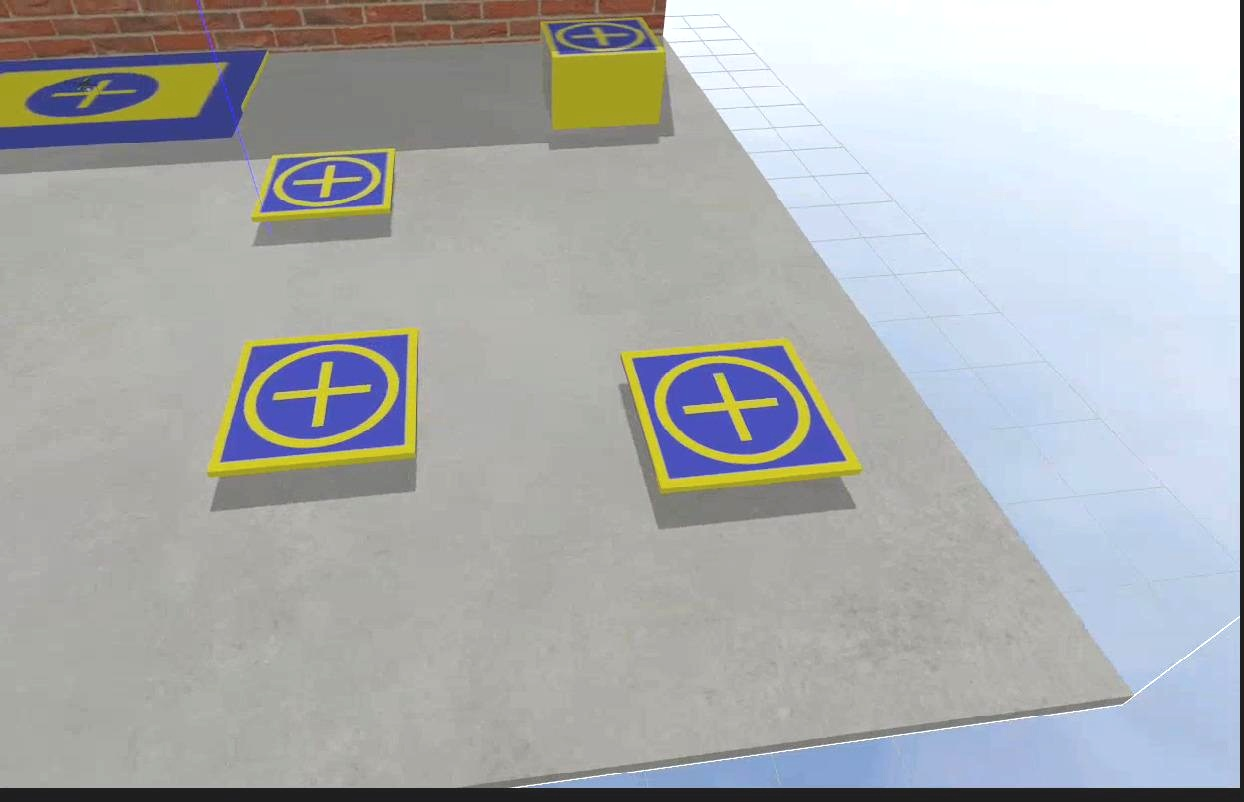large_base: (0, 54, 266, 146)
small_base: (622, 340, 864, 499), (207, 333, 420, 482), (255, 146, 395, 220), (540, 12, 667, 68)
